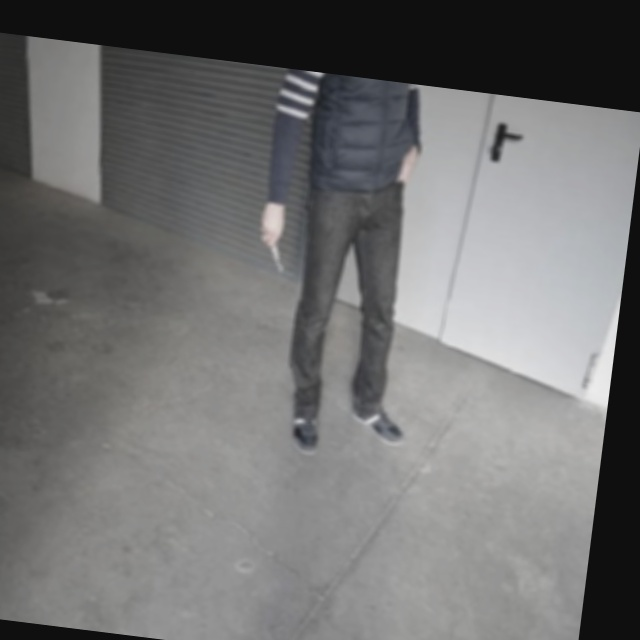Sharp-Object: (267, 244, 285, 274)
